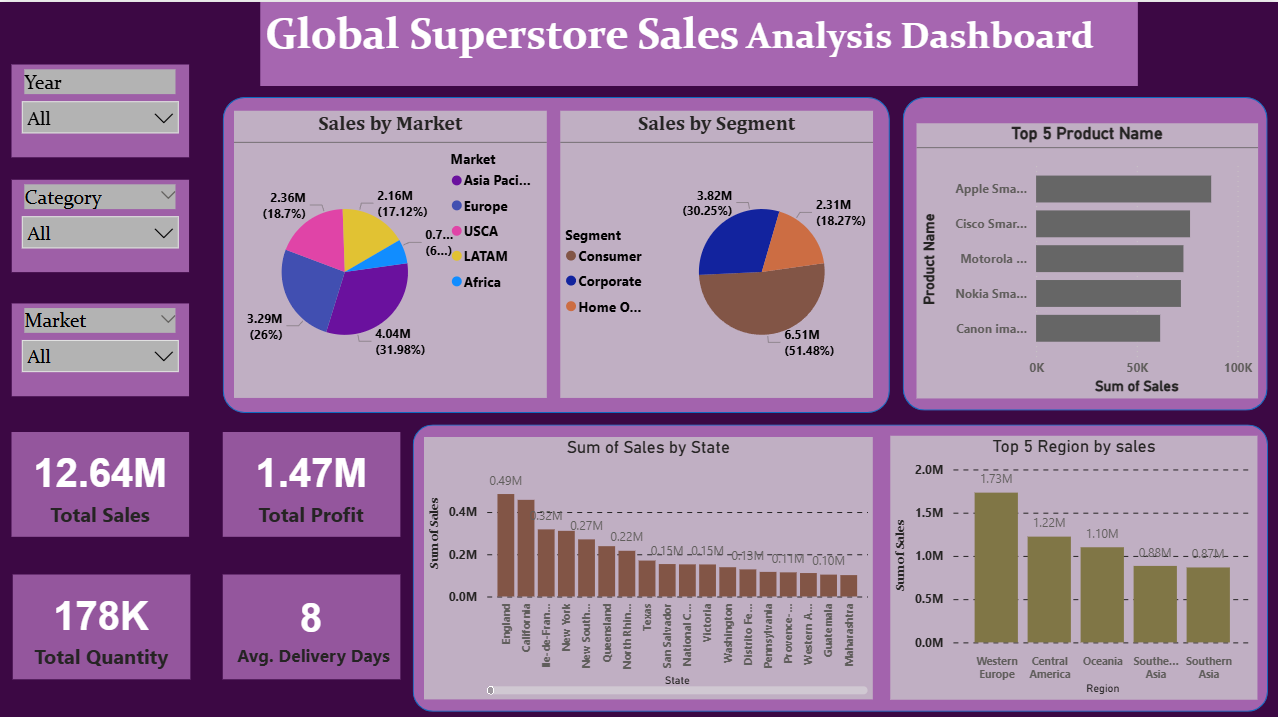

The dashboard page shown, as its layout file describes it:
{"tool":"powerbi","page":{"name":"Page 1","canvas":[1280,720],"ordinal":0},"visuals":[{"type":"textbox","box":[261.2,0,877.5,83.8],"z":0},{"type":"slicer","fields":{"Values":["Orders.Order Date.Variation.Date Hierarchy.Year"]},"box":[12.2,62.4,177.3,92.9],"z":1},{"type":"card","fields":{"Values":["Sum(Orders.Sales)"]},"box":[12.2,430.4,177.3,105.2],"z":4},{"type":"slicer","fields":{"Values":["Orders.Category"]},"box":[12.2,177.3,177.3,92.9],"z":5},{"type":"slicer","fields":{"Values":["Orders.Market"]},"box":[12.2,300.8,177.3,92.9],"z":6},{"type":"card","fields":{"Values":["Count(Orders.Avg. Delivery Days)"]},"box":[223.8,572.3,177.3,105.2],"z":7},{"type":"card","fields":{"Values":["Sum(Orders.Profit)"]},"box":[223.8,430.4,177.3,105.2],"z":8},{"type":"card","fields":{"Values":["Sum(Orders.Quantity)"]},"box":[13.5,572.3,177.3,105.2],"z":9},{"type":"shape","box":[413.8,422.5,855,287.5],"z":10},{"type":"shape","box":[223.8,95,667.5,316.2],"z":11},{"type":"columnChart","fields":{"Category":["Orders.State"],"Y":["Sum(Orders.Sales)"]},"box":[425,435,448.8,262.5],"z":12},{"type":"columnChart","title":"Top 5 Region by sales ","fields":{"Category":["Orders.Region"],"Y":["Sum(Orders.Sales)"]},"box":[891.2,433.8,367.5,263.8],"z":13},{"type":"pieChart","title":"Sales by Market","fields":{"Category":["Orders.Market"],"Y":["Sum(Orders.Sales)"]},"box":[235,108.8,312.5,287.5],"z":14},{"type":"pieChart","title":"Sales by Segment","fields":{"Category":["Orders.Segment"],"Y":["Sum(Orders.Sales)"]},"box":[561.2,108.8,312.5,287.5],"z":15},{"type":"shape","box":[903.8,95,365,313.8],"z":16},{"type":"barChart","title":"Top 5 Product Name","fields":{"Category":["Orders.Product Name"],"Y":["Sum(Orders.Sales)"]},"box":[917.5,121.2,341.2,275],"z":17}]}

Visuals, with their boxes in screenshot pixels (x1, y1, x2, y2), scaled from the page's 1280x720 canvas onto the 1278x717 screenshot:
textbox: region(261, 0, 1137, 83)
slicer - Orders.Order Date.Variation.Date Hierarchy.Year: region(12, 62, 189, 155)
card - Sum(Orders.Sales): region(12, 429, 189, 533)
slicer - Orders.Category: region(12, 177, 189, 269)
slicer - Orders.Market: region(12, 300, 189, 392)
card - Count(Orders.Avg. Delivery Days): region(223, 570, 400, 675)
card - Sum(Orders.Profit): region(223, 429, 400, 533)
card - Sum(Orders.Quantity): region(13, 570, 191, 675)
shape: region(413, 421, 1267, 707)
shape: region(223, 95, 890, 409)
columnChart - Orders.State x Sum(Orders.Sales): region(424, 433, 872, 695)
"Top 5 Region by sales " columnChart: region(890, 432, 1257, 695)
"Sales by Market" pieChart: region(235, 108, 547, 395)
"Sales by Segment" pieChart: region(560, 108, 872, 395)
shape: region(902, 95, 1267, 407)
"Top 5 Product Name" barChart: region(916, 121, 1257, 395)
